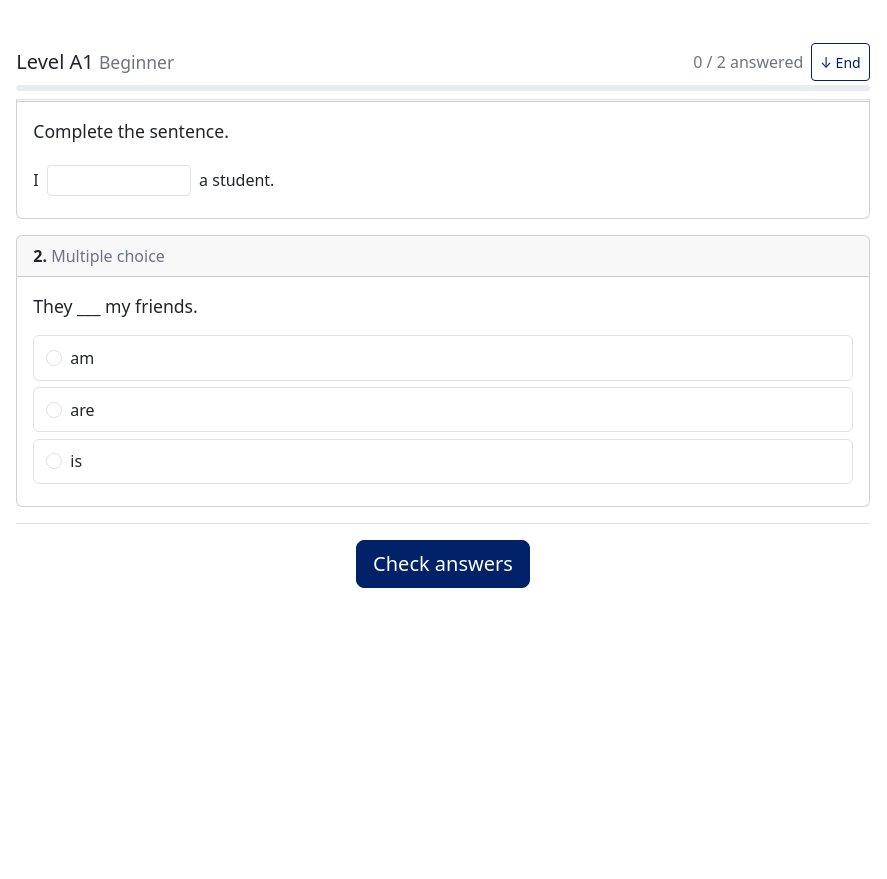
QuizPage › scores the answers and explains a wrong one in English
Expected: the button "Check answers" is shown, [356, 540, 530, 588]
Click the radio button labelled "is" at (54, 461), box [46, 453, 62, 469]
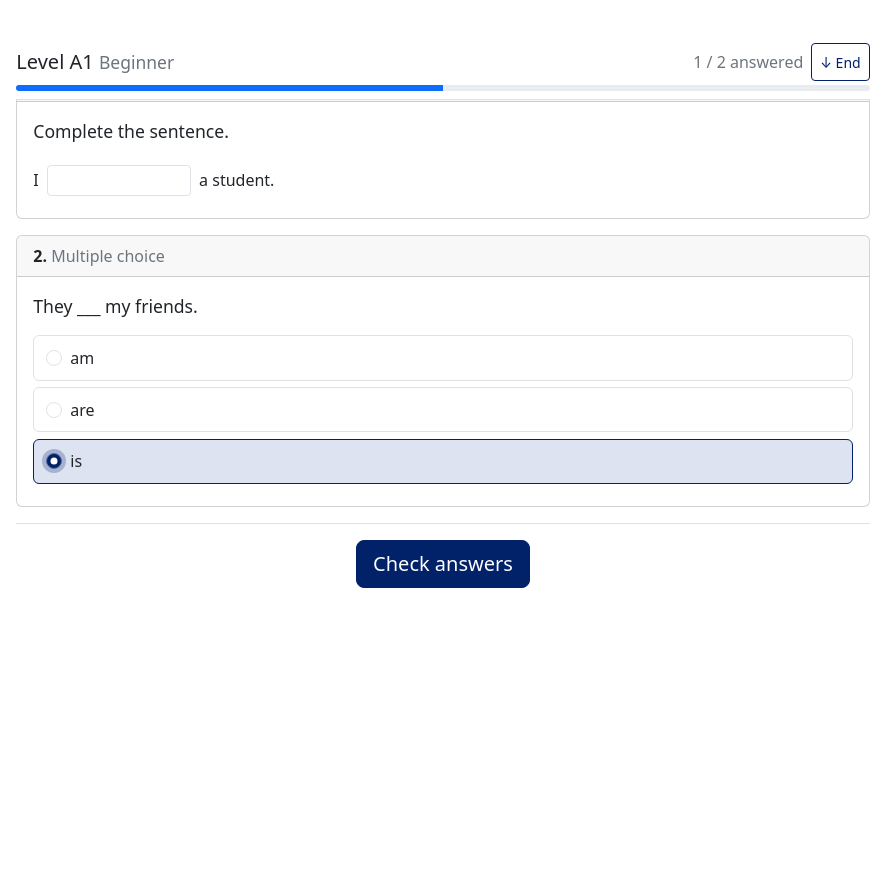
Type "am" into the field named "Gap 1" at (119, 181), box [47, 165, 191, 196]
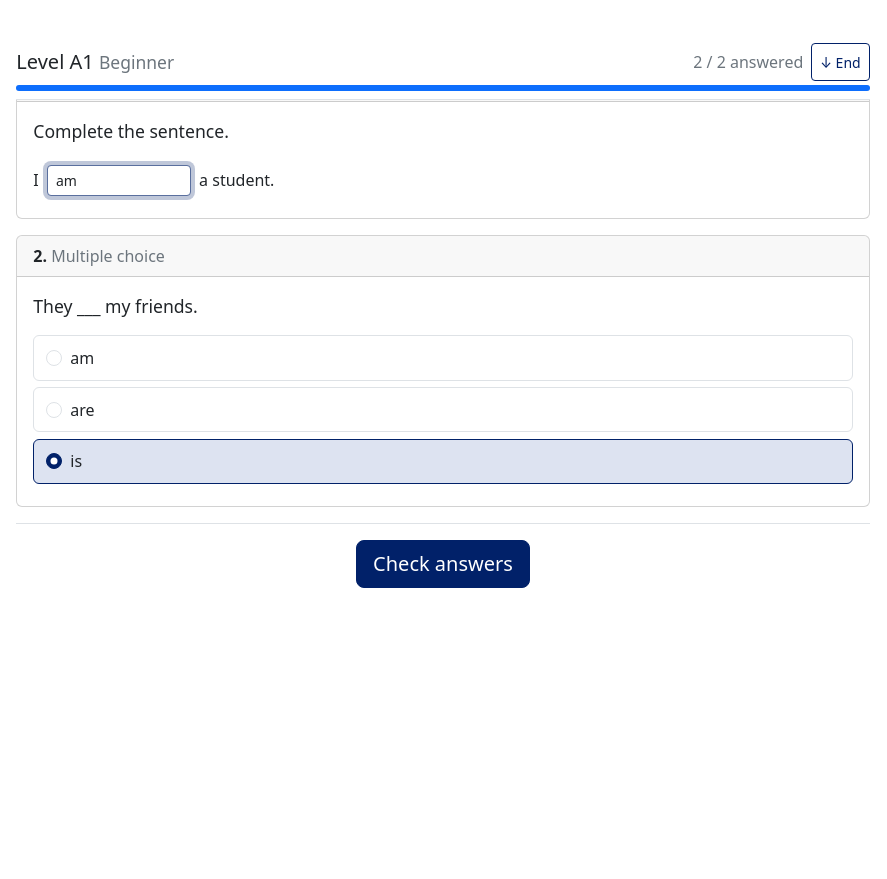
Click the button "Check answers" at (443, 564), box [356, 540, 530, 588]
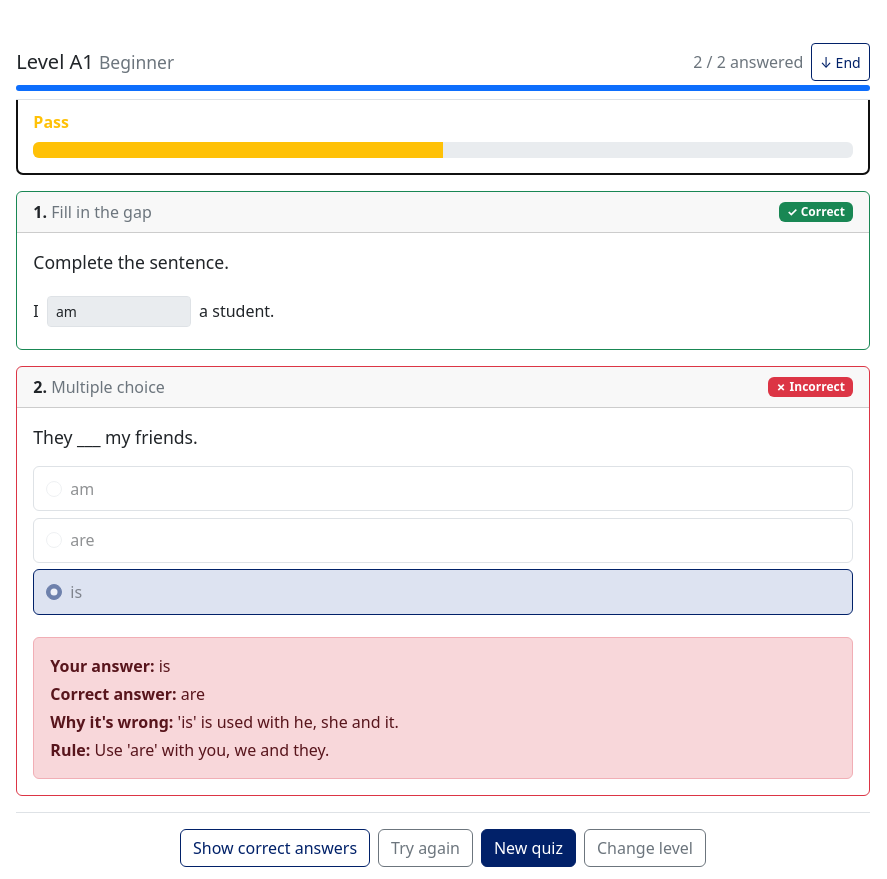
Now the text "✓ Correct" is shown, box [779, 202, 853, 222]
Now the text "✗ Incorrect" is shown, box [768, 377, 853, 397]
Now the text "Why it's wrong: 'is' is used with he, she and it." is shown, box [50, 711, 399, 733]
Click the button "Show correct answers" at (275, 848), box [180, 829, 370, 867]
(page scrolled)
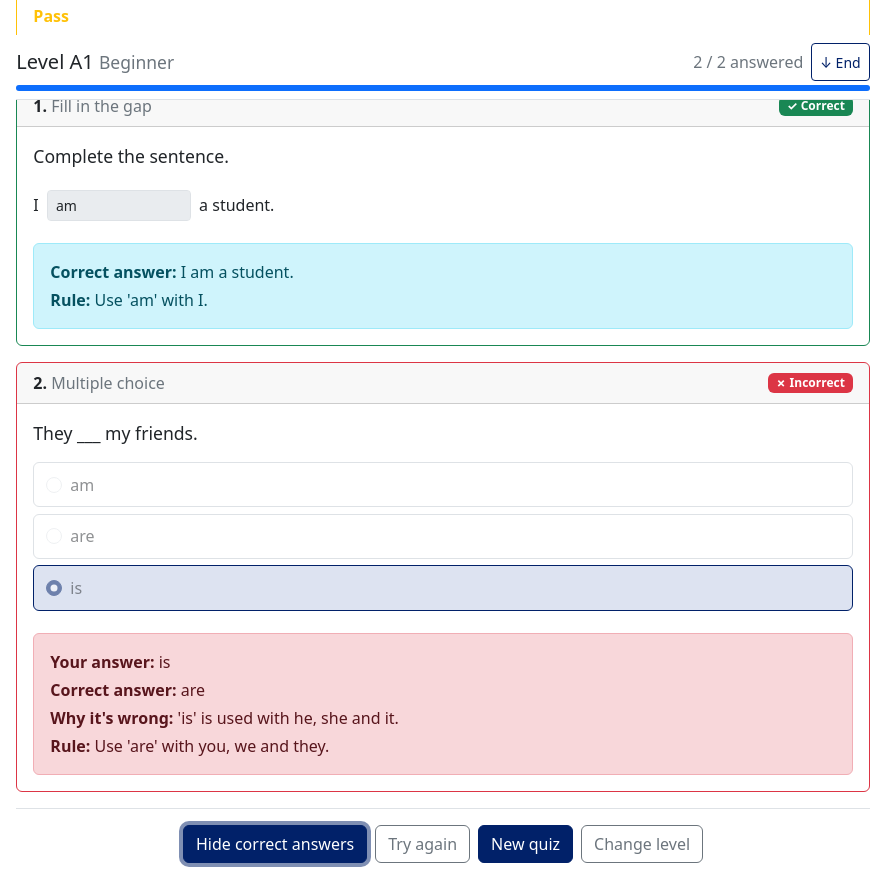
Now the text "Rule:" is shown 2 times, box [50, 289, 90, 311]; [50, 735, 90, 757]
Now the button "Hide correct answers" is shown, box [183, 825, 367, 863]
